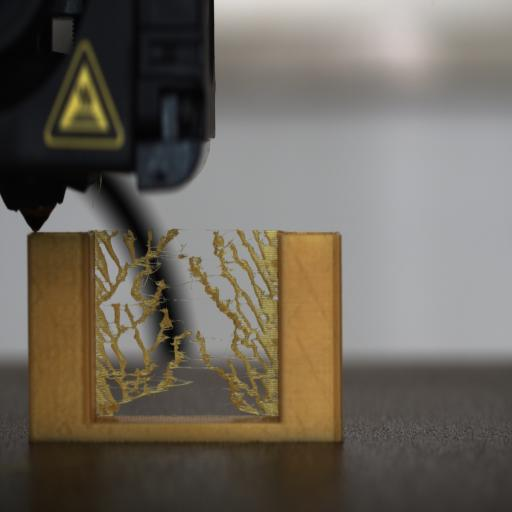stringing: (94, 223, 279, 416)
